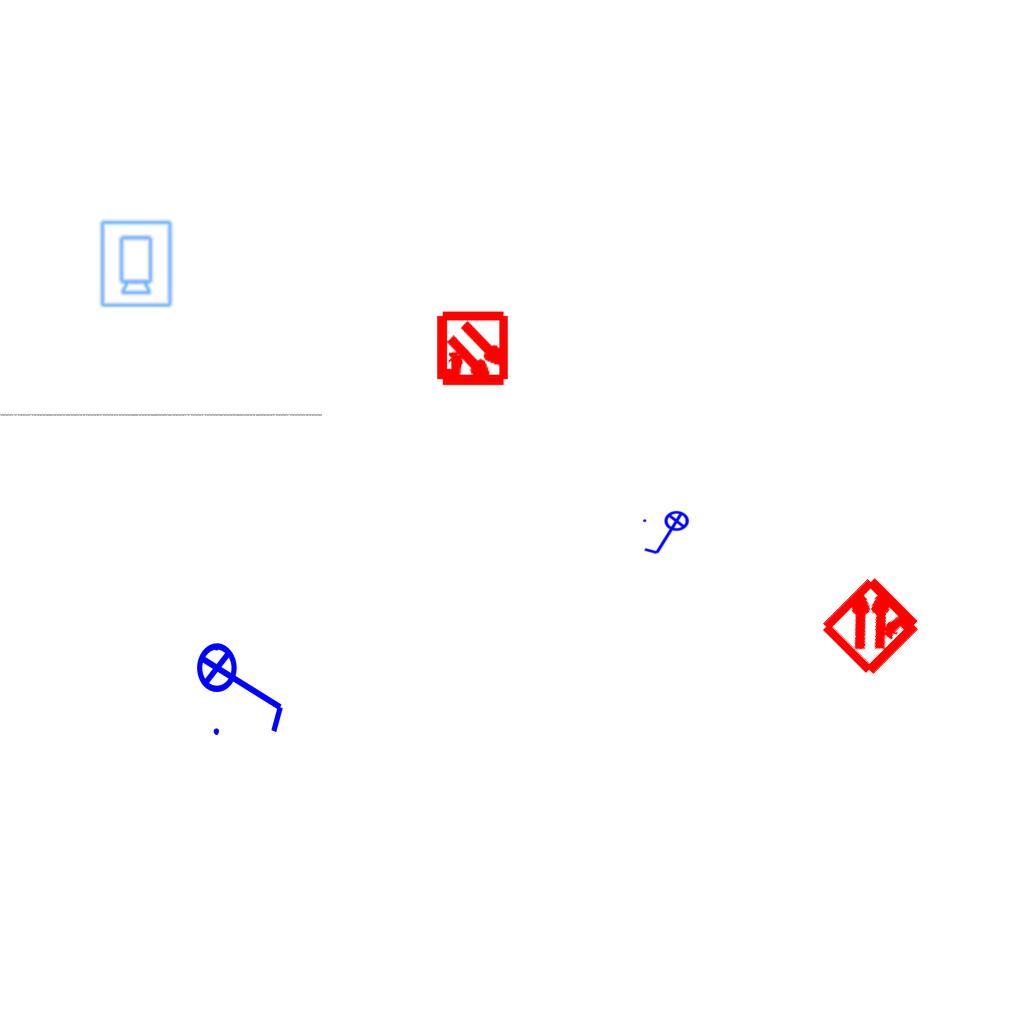Ausschalter_beleuchtet: (195, 629, 291, 741), (640, 510, 696, 558)
KFO_Kamera_mit_Festobjektiv: (97, 218, 174, 309)
OT_Multisensormelder_(Kombination_RMO_WMD): (792, 544, 953, 705), (416, 294, 529, 407)
